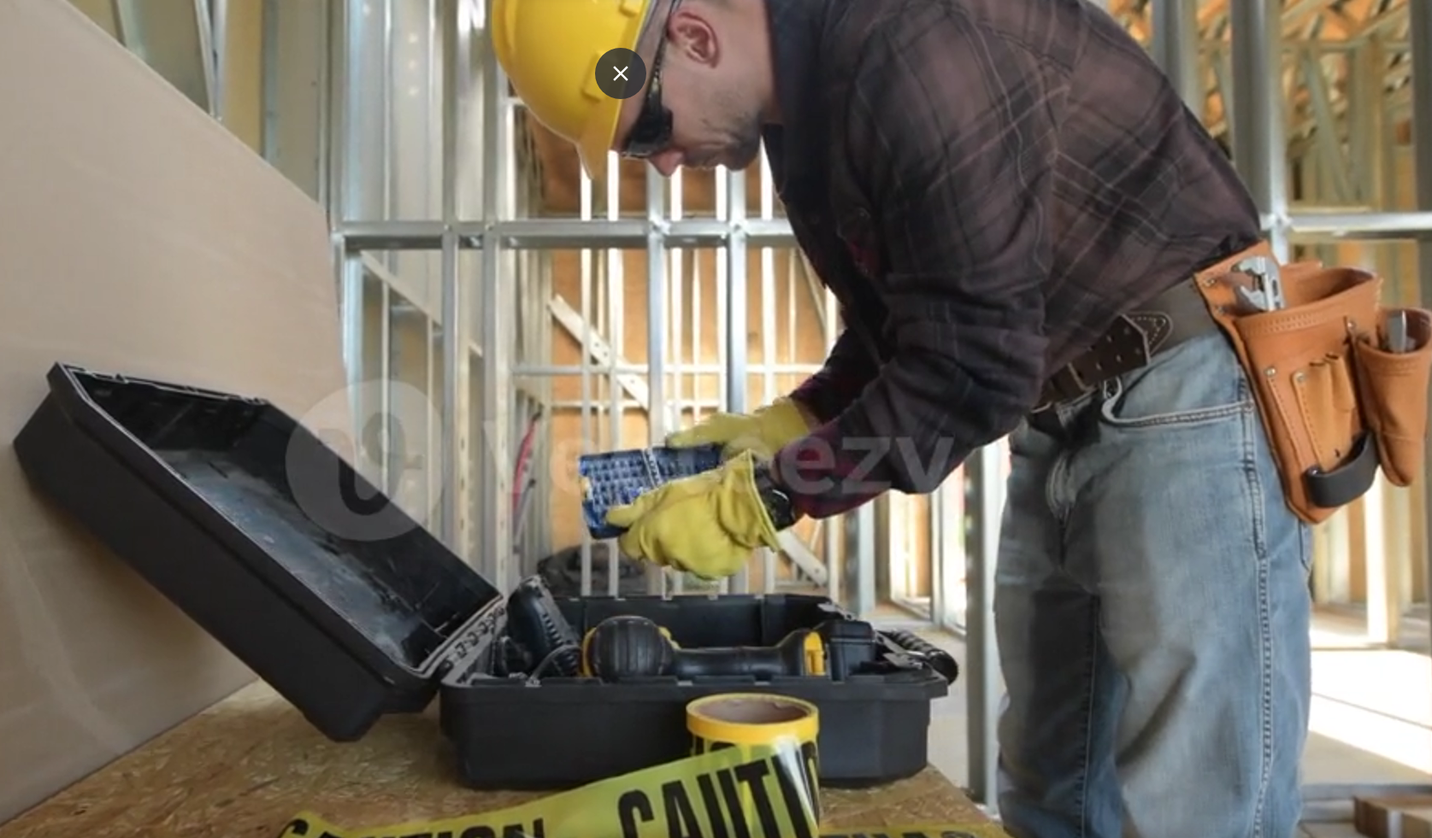safety_helmet: (487, 0, 677, 182)
